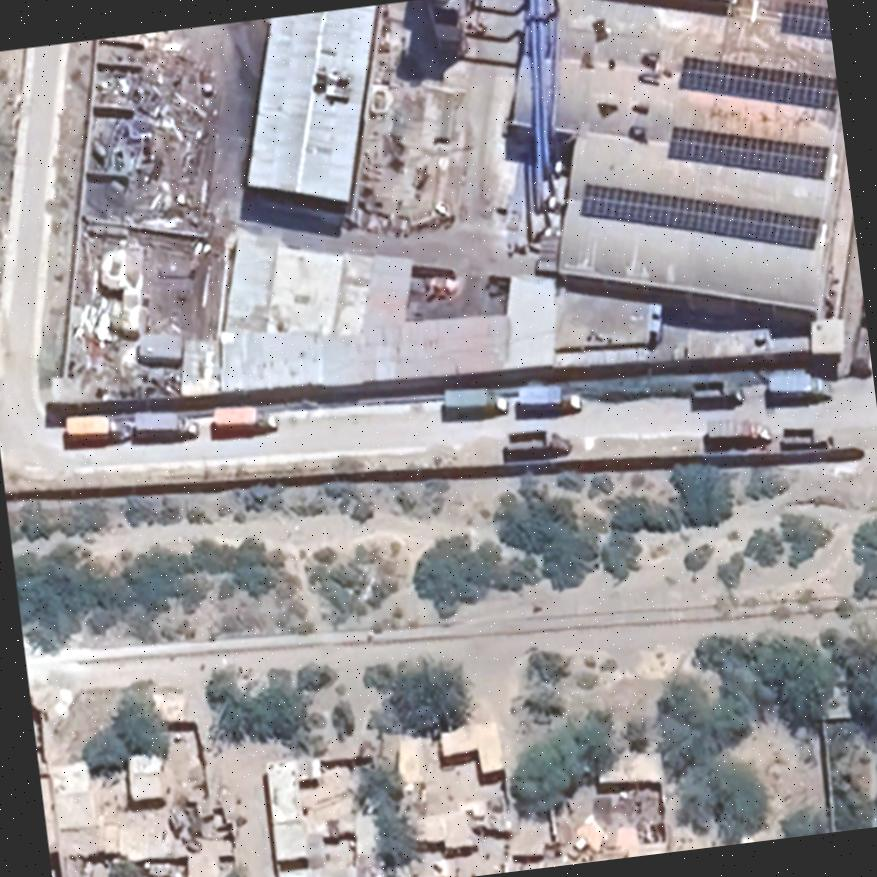Solarpanel: (574, 179, 830, 254), (672, 51, 837, 119), (660, 121, 831, 186), (776, 0, 830, 48)
